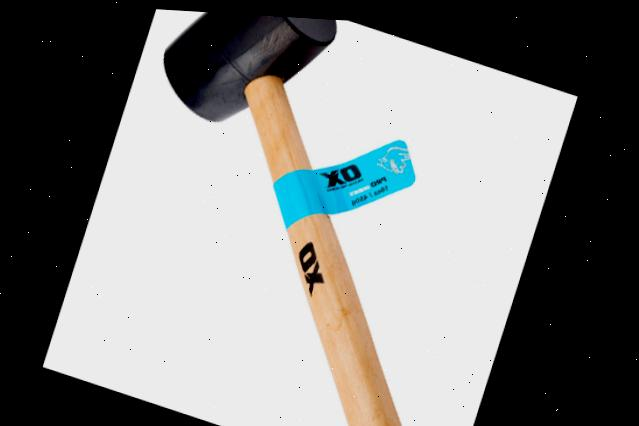hammer: (60, 3, 561, 426)
